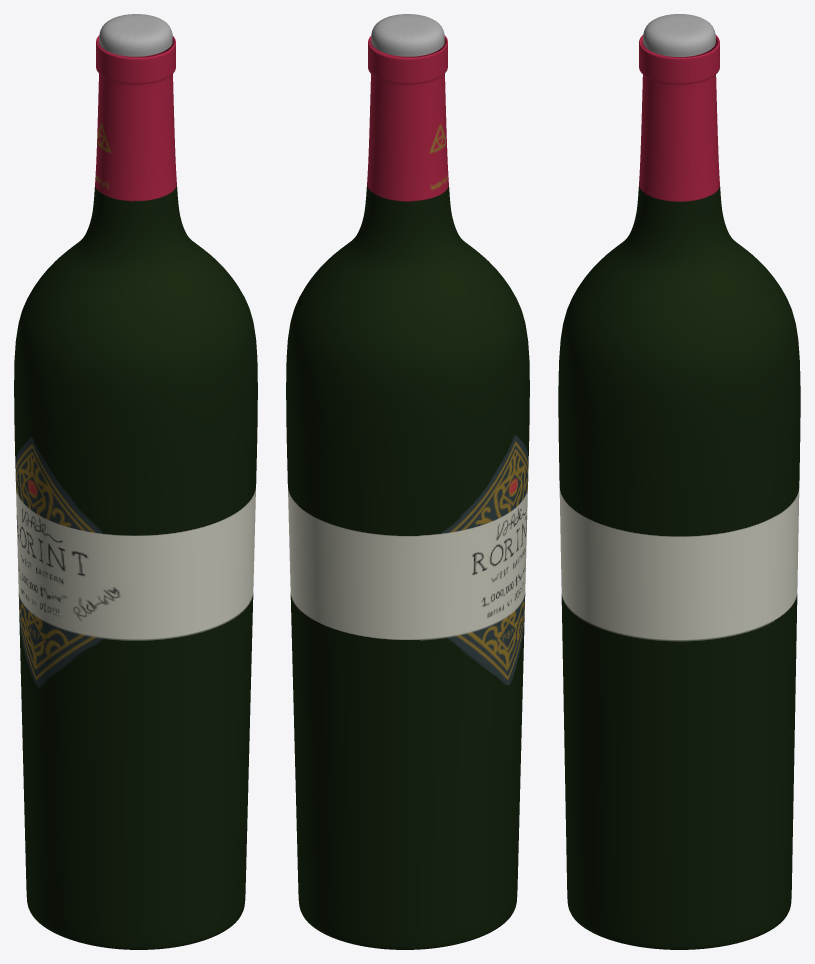
Rendered from Bottle.fbx.
The picture shows the model from 3 angles, left to right: view 1: azimuth 30°, elevation 25°; view 2: azimuth 150°, elevation 25°; view 3: azimuth 270°, elevation 25°; orthographic projection.
Parts seen in each view (by area): view 1: Bottle_Bottle; view 2: Bottle_Bottle; view 3: Bottle_Bottle.
Part boxes in pixels (left/top/right/bottom): Bottle_Bottle: left=14, top=14, right=257, bottom=949; Bottle_Bottle: left=286, top=14, right=529, bottom=949; Bottle_Bottle: left=558, top=14, right=800, bottom=949.
Size of the model in its own units: 0.0998 by 0.3957 by 0.0986.
2 materials, 1 textured.
